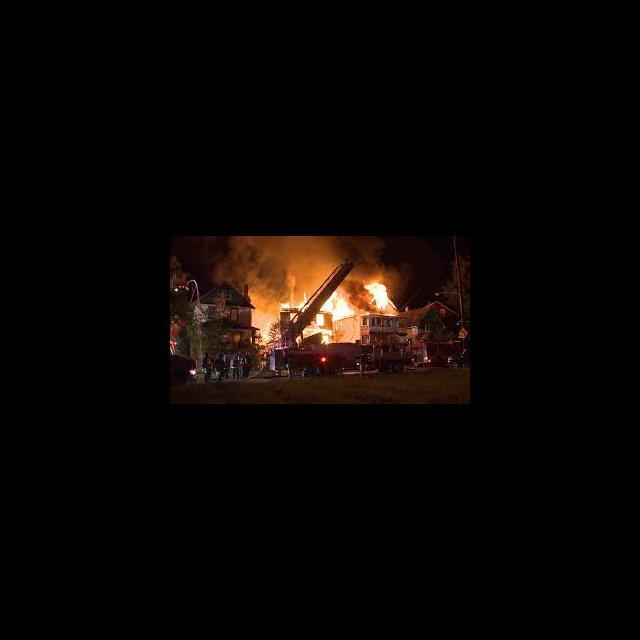Fire: (258, 287, 360, 345), (363, 282, 400, 314)
Smoke: (225, 236, 320, 284), (358, 240, 408, 282), (322, 237, 359, 253)
